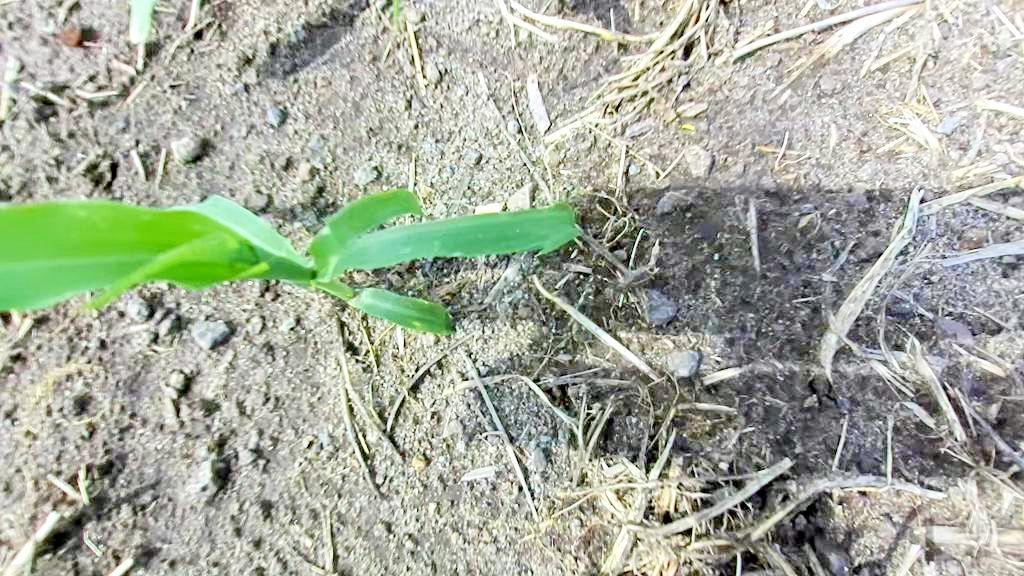BroWeed: (404, 450, 431, 477), (297, 431, 315, 450), (680, 123, 696, 135)
Maize: (0, 173, 583, 339)
